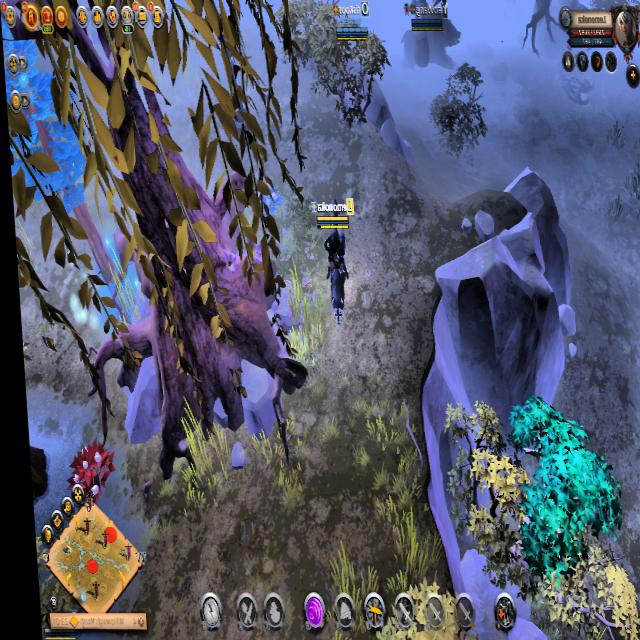wood tier 3: (501, 390, 621, 584)
